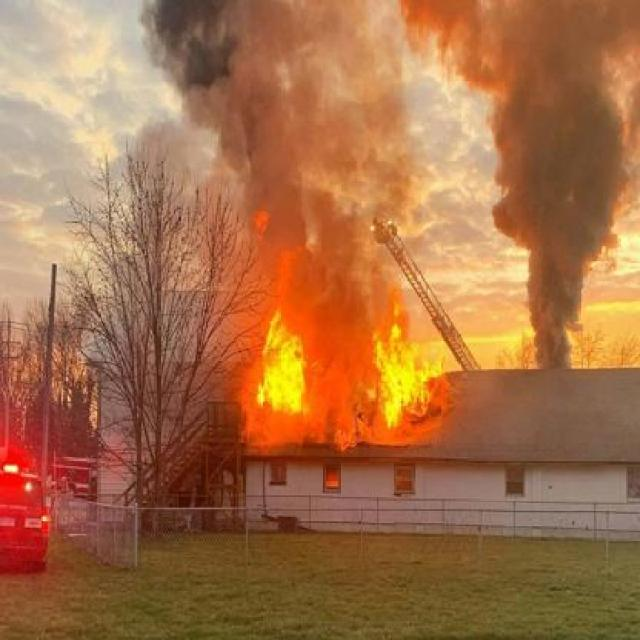Fire: (366, 322, 436, 433), (256, 308, 310, 428)
Smoke: (157, 0, 406, 320), (460, 2, 616, 368)
